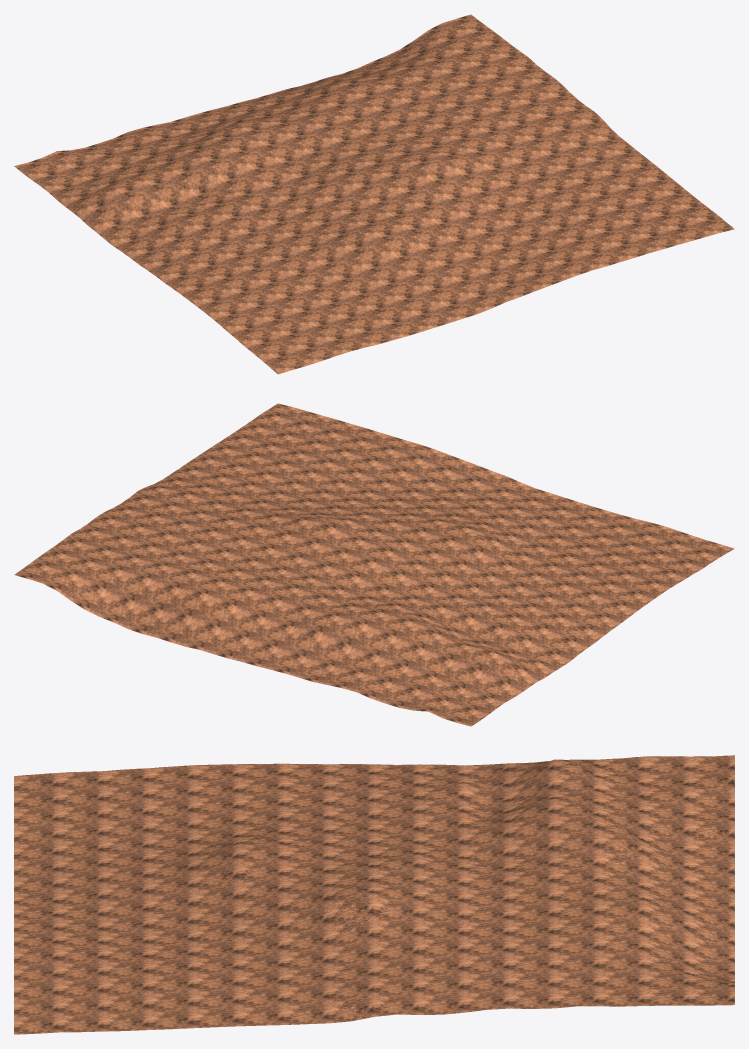
Rendered from terrain_08_07.dae.
The picture shows the model from 3 angles, top to bottom: view 1: azimuth 30°, elevation 25°; view 2: azimuth 150°, elevation 25°; view 3: azimuth 270°, elevation 25°; orthographic projection. The views are drawn at different scales.
Visible parts, largest first — view 1: terrain_08_07-node; view 2: terrain_08_07-node; view 3: terrain_08_07-node.
Boxes of the visible parts, left/top/right/bottom form: terrain_08_07-node: left=14, top=14, right=734, bottom=374; terrain_08_07-node: left=14, top=403, right=734, bottom=726; terrain_08_07-node: left=14, top=755, right=734, bottom=1034.
Size of the model in its own units: 128 by 128 by 14.83.
1 material, 1 textured.
